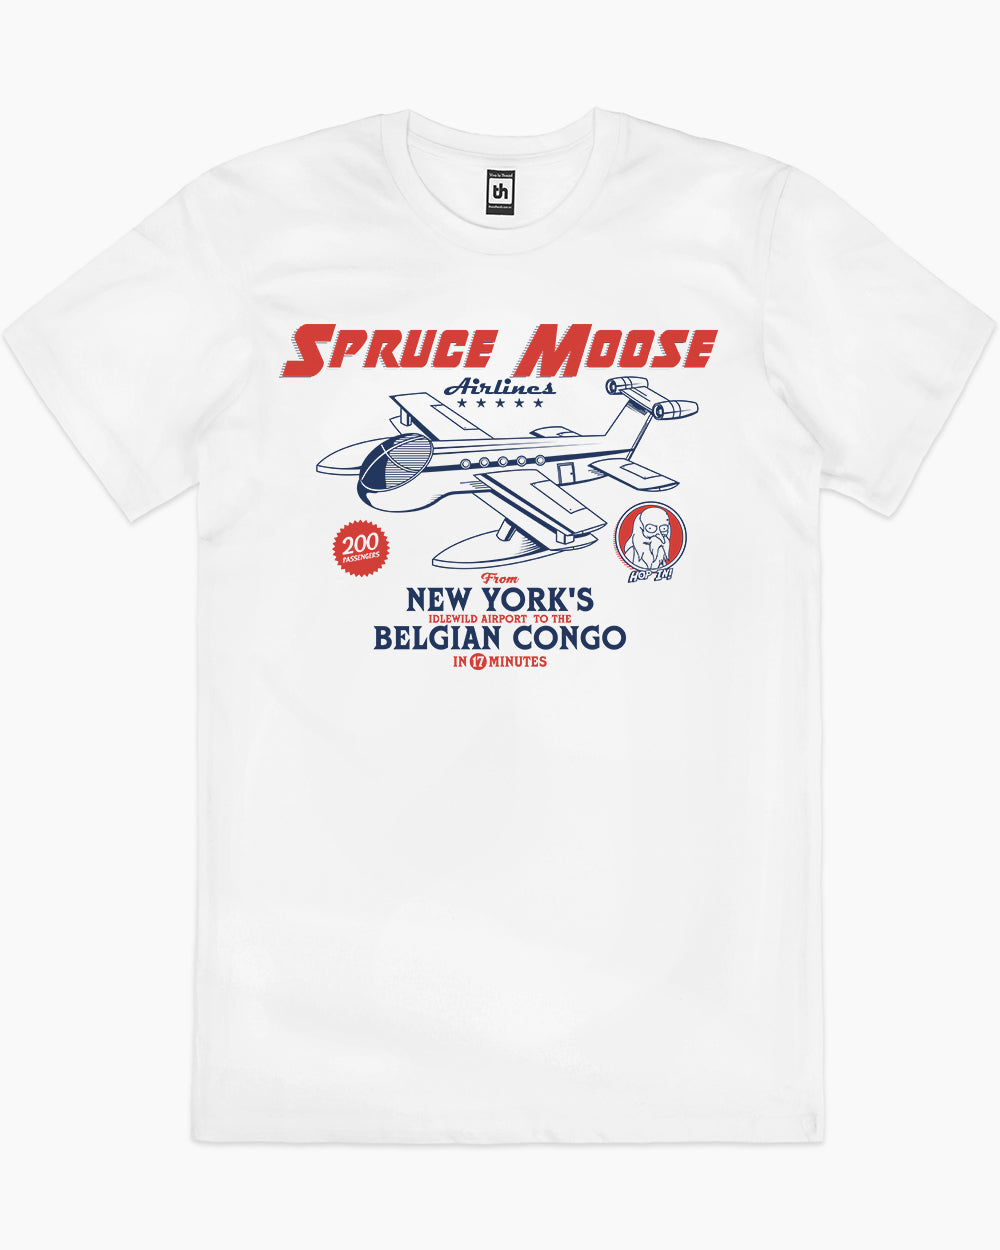design: (276, 317, 723, 676)
